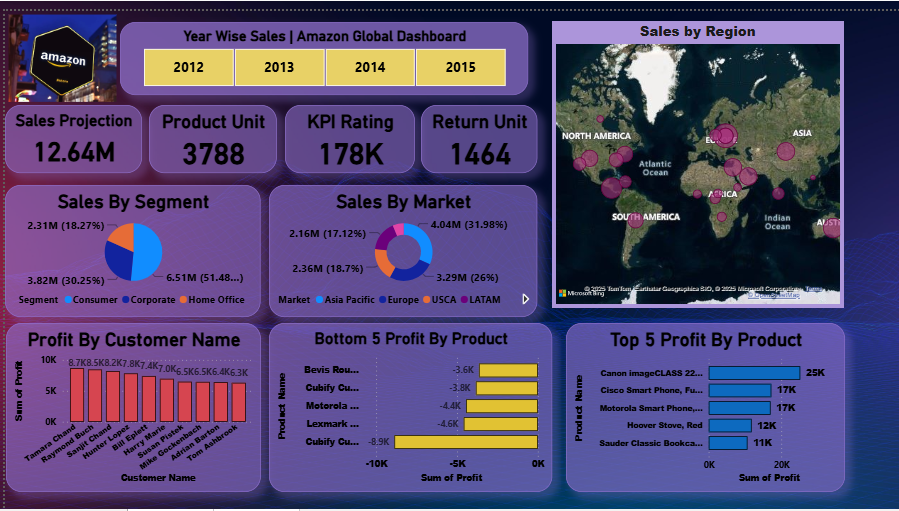

Layout of this report page (visuals, bound fields, positions):
{"tool":"powerbi","page":{"name":"Report 1","canvas":[1280,720],"ordinal":0},"visuals":[{"type":"slicer","title":"Year Wise Sales | Amazon Global Dashboard","fields":{"Values":["Orders.Year"]},"box":[162.5,15,575,102.5],"z":0},{"type":"image","box":[0,0,162.5,132.5],"z":1000},{"type":"card","title":"Sales Projection","fields":{"Values":["Orders.Sales"]},"box":[0,132.5,192.5,96.2],"z":2000},{"type":"card","title":"Product Unit","fields":{"Values":["Orders.Product Name"]},"box":[202.5,132.5,180,96.2],"z":3000},{"type":"card","title":"KPI Rating","fields":{"Values":["Orders.Quantity"]},"box":[393.8,132.5,182.5,96.2],"z":4000},{"type":"card","title":"Return Unit","fields":{"Values":["Orders.Ship Date"]},"box":[586.2,132.5,163.8,96.2],"z":5000},{"type":"pieChart","title":"Sales By Segment","fields":{"Y":["Orders.Sales"],"Category":["Orders.Segment"]},"box":[0,245,360,186.2],"z":6000},{"type":"donutChart","title":"Sales By Market","fields":{"Category":["Orders.Market"],"Y":["Orders.Sales"]},"box":[372.5,245,377.5,186.2],"z":7000},{"type":"columnChart","title":"Profit By Customer Name","fields":{"Category":["Orders.Customer Name"],"Y":["Orders.Profit"]},"box":[1.3,439.5,359.2,238.2],"z":8000},{"type":"clusteredBarChart","title":"Top 5 Profit By Product ","fields":{"Category":["Orders.Product Name"],"Y":["Orders.Profit"]},"box":[789.5,439.5,393.4,238.2],"z":9000},{"type":"clusteredBarChart","title":"Bottom 5 Profit By Product ","fields":{"Category":["Orders.Product Name"],"Y":["Orders.Profit"]},"box":[372.4,439.5,398.7,238.2],"z":10000},{"type":"map","title":" Sales by Region","fields":{"Category":["Orders.Region"],"Size":["Orders.Sales"]},"box":[771.1,14.5,410.5,402.6],"z":11000}]}

Visuals, with their boxes in screenshot pixels (x1, y1, x2, y2), scaled from the page's 1280x720 canvas onto the 899x511 screenshot:
"Year Wise Sales | Amazon Global Dashboard" slicer: Rect(114, 11, 518, 83)
image: Rect(0, 0, 114, 94)
"Sales Projection" card: Rect(0, 94, 135, 162)
"Product Unit" card: Rect(142, 94, 269, 162)
"KPI Rating" card: Rect(277, 94, 405, 162)
"Return Unit" card: Rect(412, 94, 527, 162)
"Sales By Segment" pieChart: Rect(0, 174, 253, 306)
"Sales By Market" donutChart: Rect(262, 174, 527, 306)
"Profit By Customer Name" columnChart: Rect(1, 312, 253, 481)
"Top 5 Profit By Product " clusteredBarChart: Rect(555, 312, 831, 481)
"Bottom 5 Profit By Product " clusteredBarChart: Rect(262, 312, 542, 481)
" Sales by Region" map: Rect(542, 10, 830, 296)
